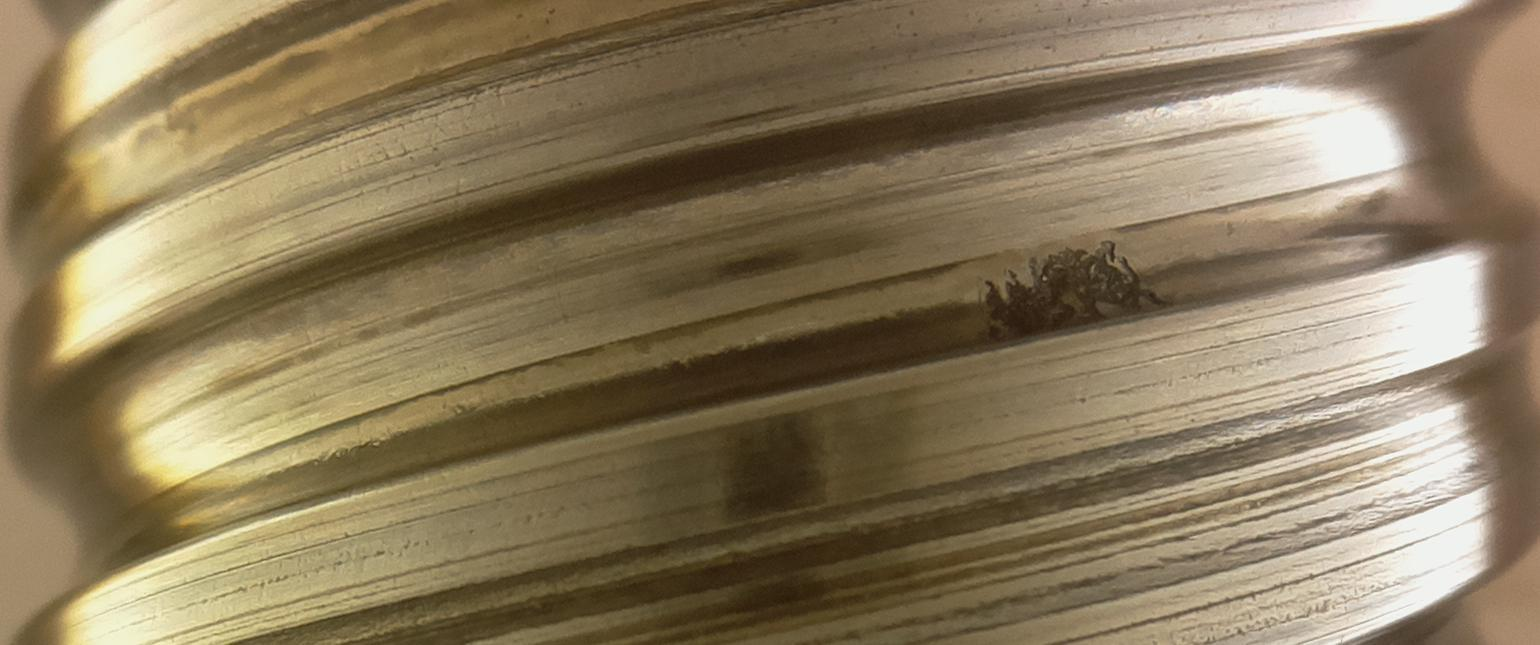pitting: (984, 240, 1167, 342)
